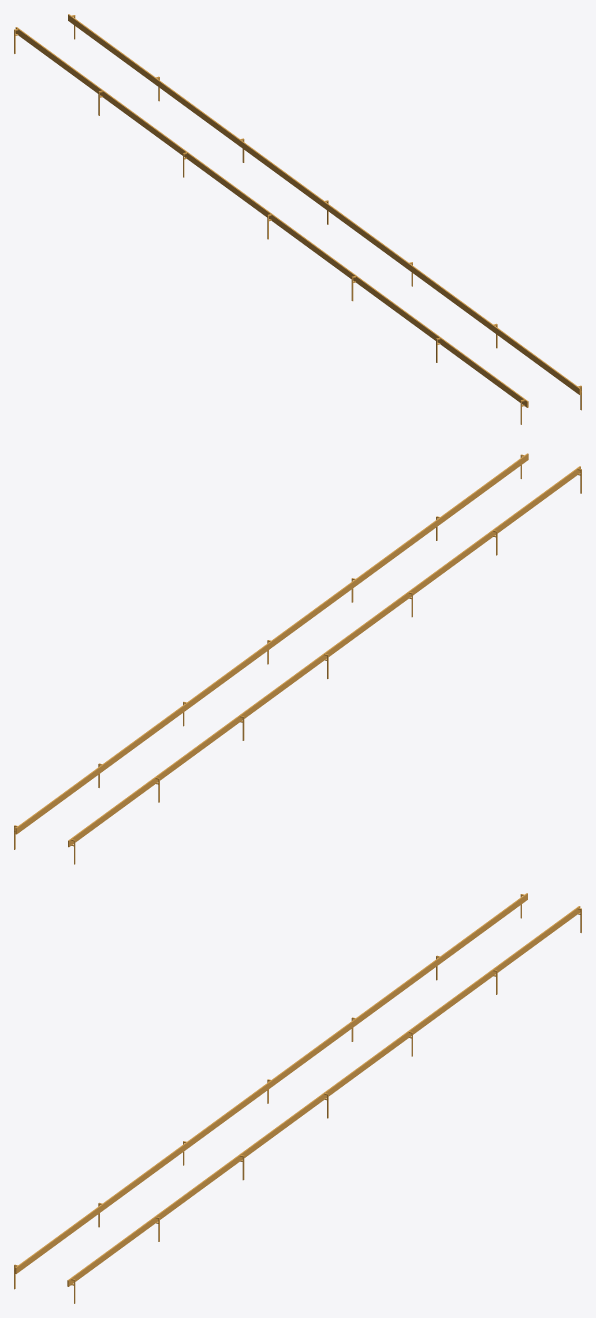
File: Gutter_Walls.fbx
3 renders of one model, top to bottom at view 1: azimuth 30°, elevation 25°; view 2: azimuth 150°, elevation 25°; view 3: azimuth 330°, elevation 25°, orthographic.
Parts seen in each view (by area): view 1: Gutter_Walls; view 2: Gutter_Walls; view 3: Gutter_Walls.
Boxes of the visible parts, x1,y1,x2,y2 form: Gutter_Walls: [14, 14, 581, 424]; Gutter_Walls: [14, 453, 581, 864]; Gutter_Walls: [14, 893, 581, 1303].
Size of the model in its own units: 1.26 by 0.4807 by 18.46.
